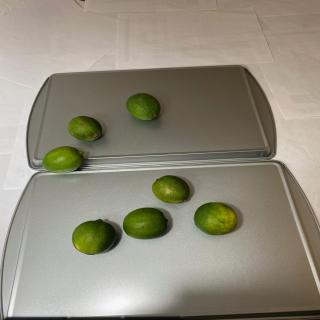Lemon: (72, 219, 116, 255), (194, 202, 238, 235), (123, 208, 168, 240), (42, 146, 84, 174), (152, 175, 190, 203), (126, 92, 160, 120), (68, 115, 102, 142)
